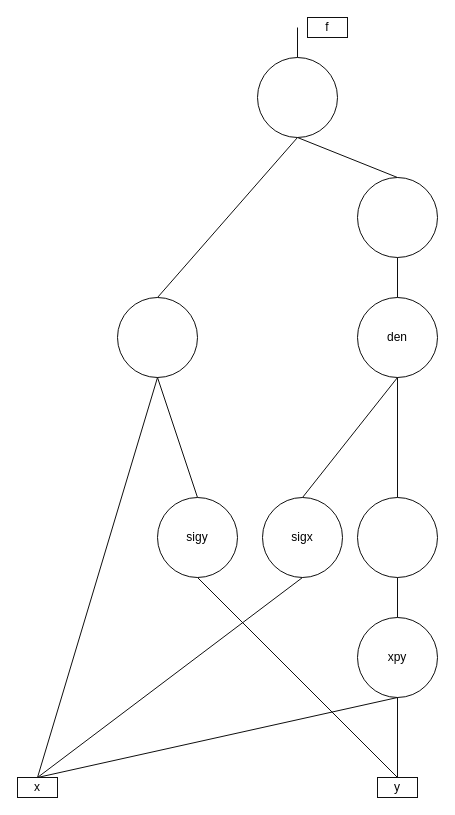
The diagram is 455 pixels wide and 815 high, and some of its shapes have lost their labels. Each missing label, with the centre of its shape:
"f_mul" belongs at (x=297, y=97).
"invden" belongs at (x=397, y=217).
"num" belongs at (x=157, y=337).
"xpysqr" belongs at (x=397, y=537).
